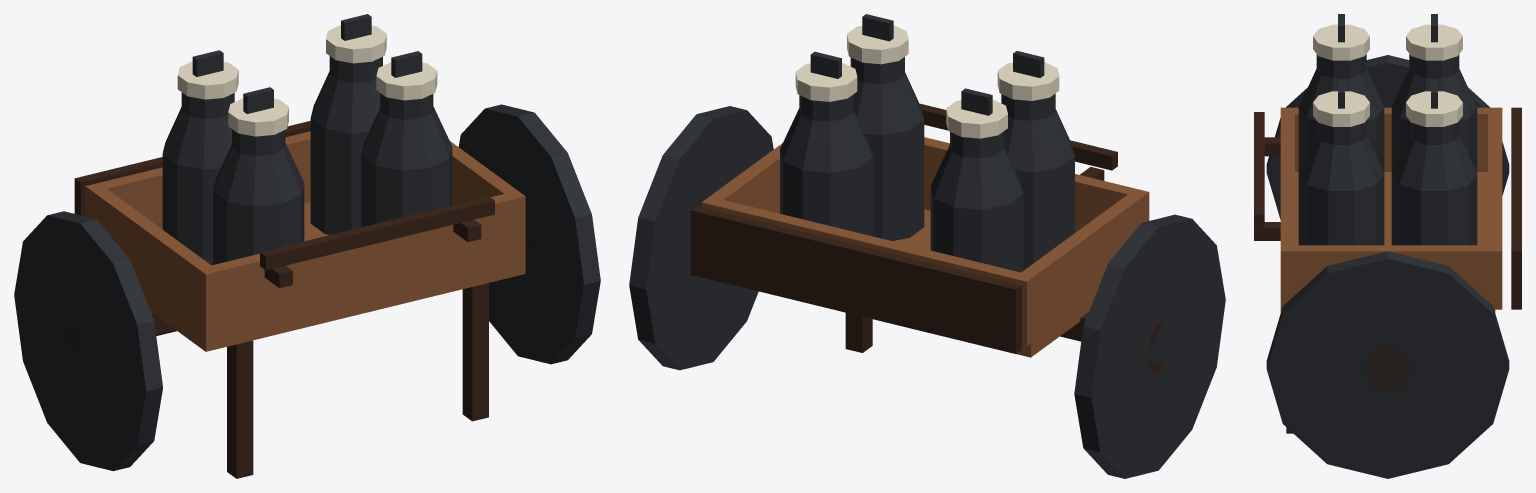
The model's file is MilkCart.fbx.
3 renders of one model, left to right at view 1: azimuth 30°, elevation 25°; view 2: azimuth 150°, elevation 25°; view 3: azimuth 270°, elevation 25°, orthographic. The views are drawn at different scales.
Visible parts, largest first — view 1: MilkCart_Mesh; view 2: MilkCart_Mesh; view 3: MilkCart_Mesh.
Boxes of the visible parts, bbox=[...] form: MilkCart_Mesh: bbox=[14, 14, 600, 478]; MilkCart_Mesh: bbox=[629, 14, 1225, 478]; MilkCart_Mesh: bbox=[1254, 14, 1521, 478].
Size of the model in its own units: 135 by 100 by 75.
